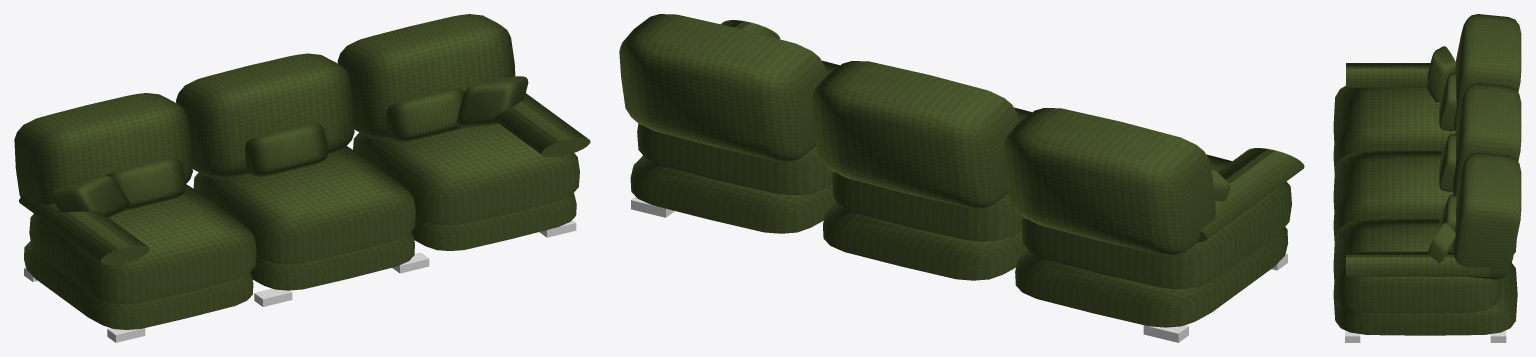
The picture shows the model from 3 angles, left to right: view 1: azimuth 30°, elevation 25°; view 2: azimuth 150°, elevation 25°; view 3: azimuth 270°, elevation 25°; orthographic projection. The views are drawn at different scales.
Parts seen in each view (by area): view 1: 11 center_seat, 10 left_seat, 12 right_seat, 14 center_backrest, 13 left_backrest, 15 right_backrest, 7 left_base, 8 center_base, 9 right_base, 16 left_armrest, 19 center_waist_pillow, 17 right_armrest (+5 smaller); view 2: 13 left_backrest, 15 right_backrest, 14 center_backrest, 10 left_seat, 7 left_base, 8 center_base, 9 right_base, 12 right_seat, 11 center_seat, 16 left_armrest, 2 left_back_foot; view 3: 12 right_seat, 11 center_seat, 15 right_backrest, 10 left_seat, 9 right_base, 14 center_backrest, 13 left_backrest, 17 right_armrest, 16 left_armrest, 21 left_throw_pillow, 18 left_waist_pillow, 19 center_waist_pillow (+4 smaller).
Part boxes in pixels (bbox=[...]): 11 center_seat: bbox=[193, 146, 415, 264]; 10 left_seat: bbox=[29, 184, 256, 304]; 12 right_seat: bbox=[353, 124, 579, 225]; 14 center_backrest: bbox=[176, 53, 354, 178]; 13 left_backrest: bbox=[14, 93, 192, 204]; 15 right_backrest: bbox=[337, 14, 515, 139]; 7 left_base: bbox=[24, 241, 253, 329]; 8 center_base: bbox=[250, 232, 414, 290]; 9 right_base: bbox=[411, 193, 576, 250]; 16 left_armrest: bbox=[19, 195, 149, 264]; 19 center_waist_pillow: bbox=[245, 123, 327, 176]; 17 right_armrest: bbox=[495, 93, 590, 157]; 13 left_backrest: bbox=[1004, 108, 1215, 254]; 15 right_backrest: bbox=[619, 14, 826, 160]; 14 center_backrest: bbox=[811, 61, 1018, 207]; 10 left_seat: bbox=[1021, 154, 1291, 289]; 7 left_base: bbox=[1015, 227, 1288, 327]; 8 center_base: bbox=[823, 201, 1027, 280]; 9 right_base: bbox=[630, 155, 836, 233]; 12 right_seat: bbox=[637, 60, 839, 195]; 11 center_seat: bbox=[832, 107, 1031, 241]; 16 left_armrest: bbox=[1196, 148, 1304, 242]; 2 left_back_foot: bbox=[1143, 325, 1188, 342]; 12 right_seat: bbox=[1333, 218, 1501, 313]; 11 center_seat: bbox=[1333, 150, 1453, 230]; 15 right_backrest: bbox=[1452, 152, 1521, 279]; 10 left_seat: bbox=[1333, 86, 1455, 162]; 9 right_base: bbox=[1333, 263, 1517, 335]; 14 center_backrest: bbox=[1452, 83, 1521, 195]; 13 left_backrest: bbox=[1454, 14, 1521, 130]; 17 right_armrest: bbox=[1346, 251, 1489, 276]; 16 left_armrest: bbox=[1346, 63, 1430, 87]; 21 left_throw_pillow: bbox=[1427, 46, 1455, 102]; 18 left_waist_pillow: bbox=[1439, 73, 1456, 131]; 19 center_waist_pillow: bbox=[1439, 134, 1456, 192].
Bounding box in the file's own units: 3.3 × 1 × 1.25.
2 materials, 2 textured.
